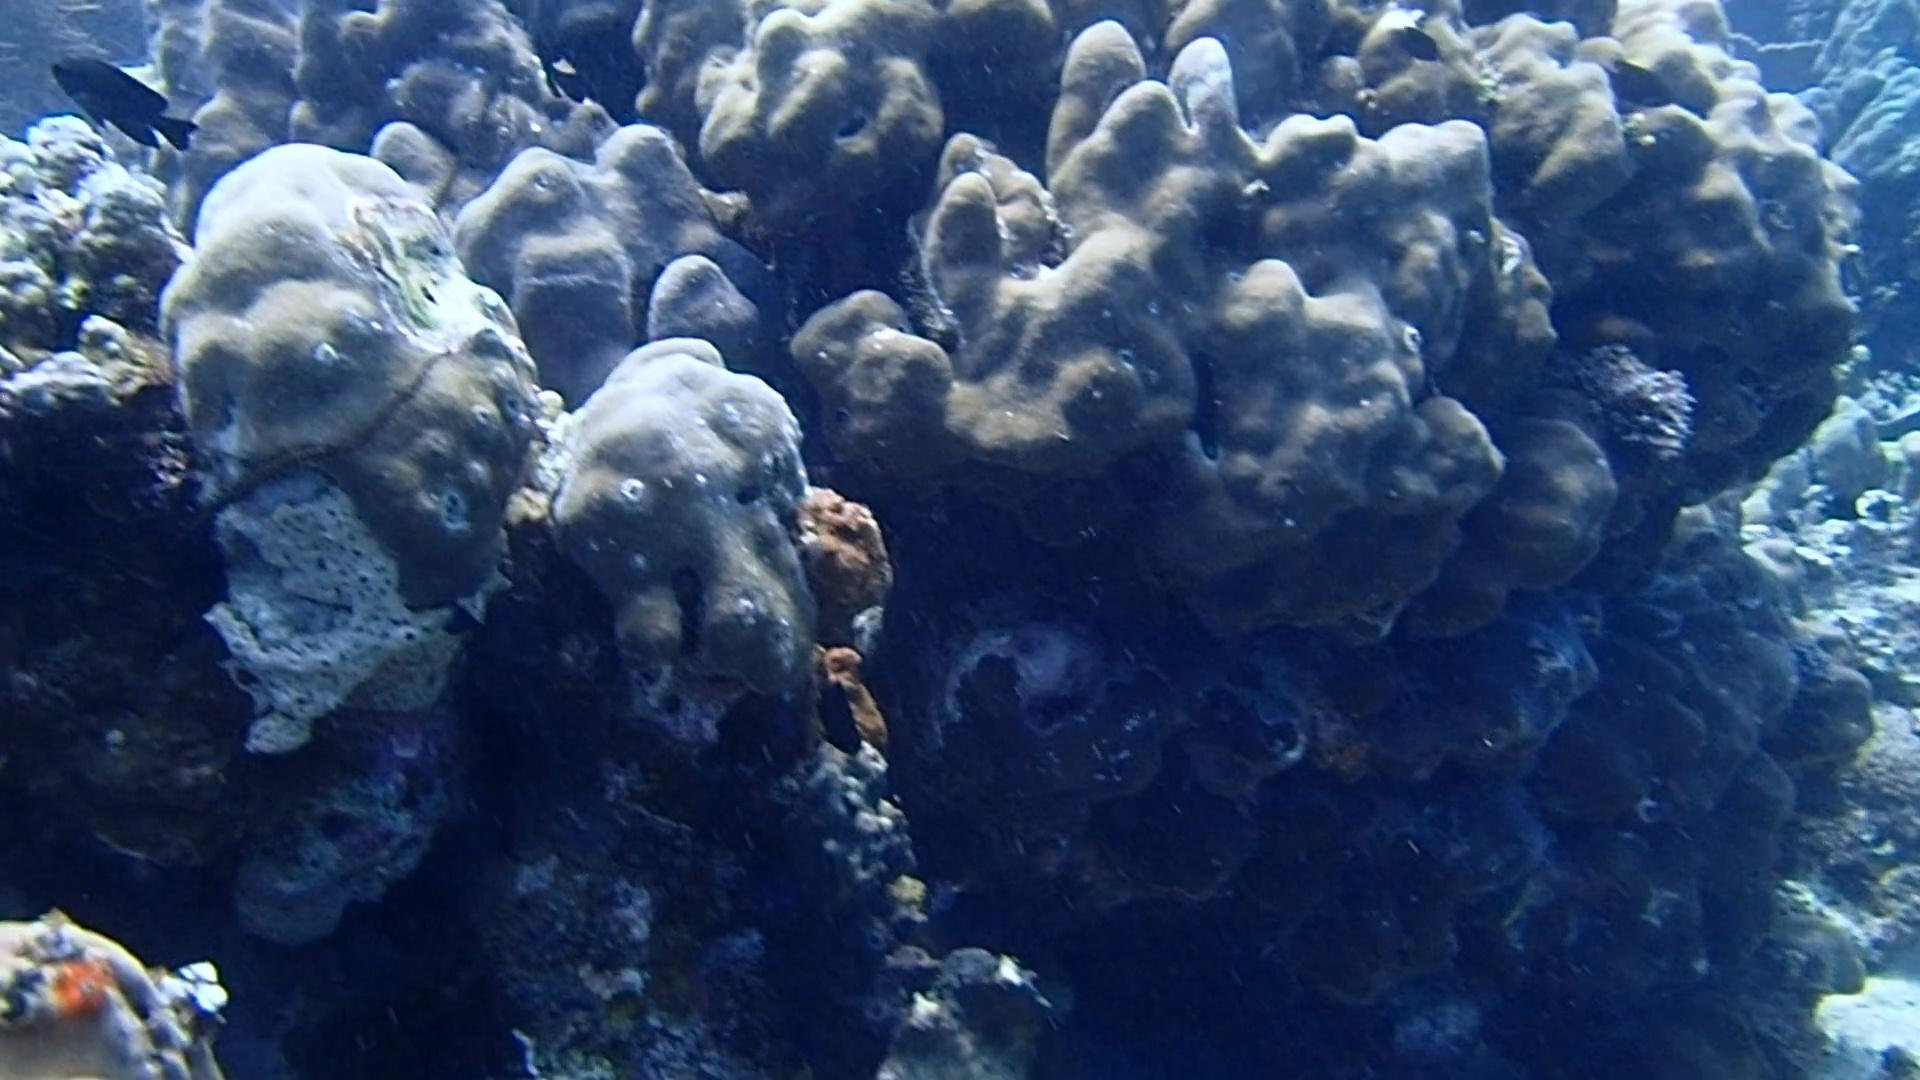Dark Fish: (47, 41, 207, 162), (798, 671, 873, 765), (1604, 53, 1681, 117), (1390, 21, 1453, 71)
